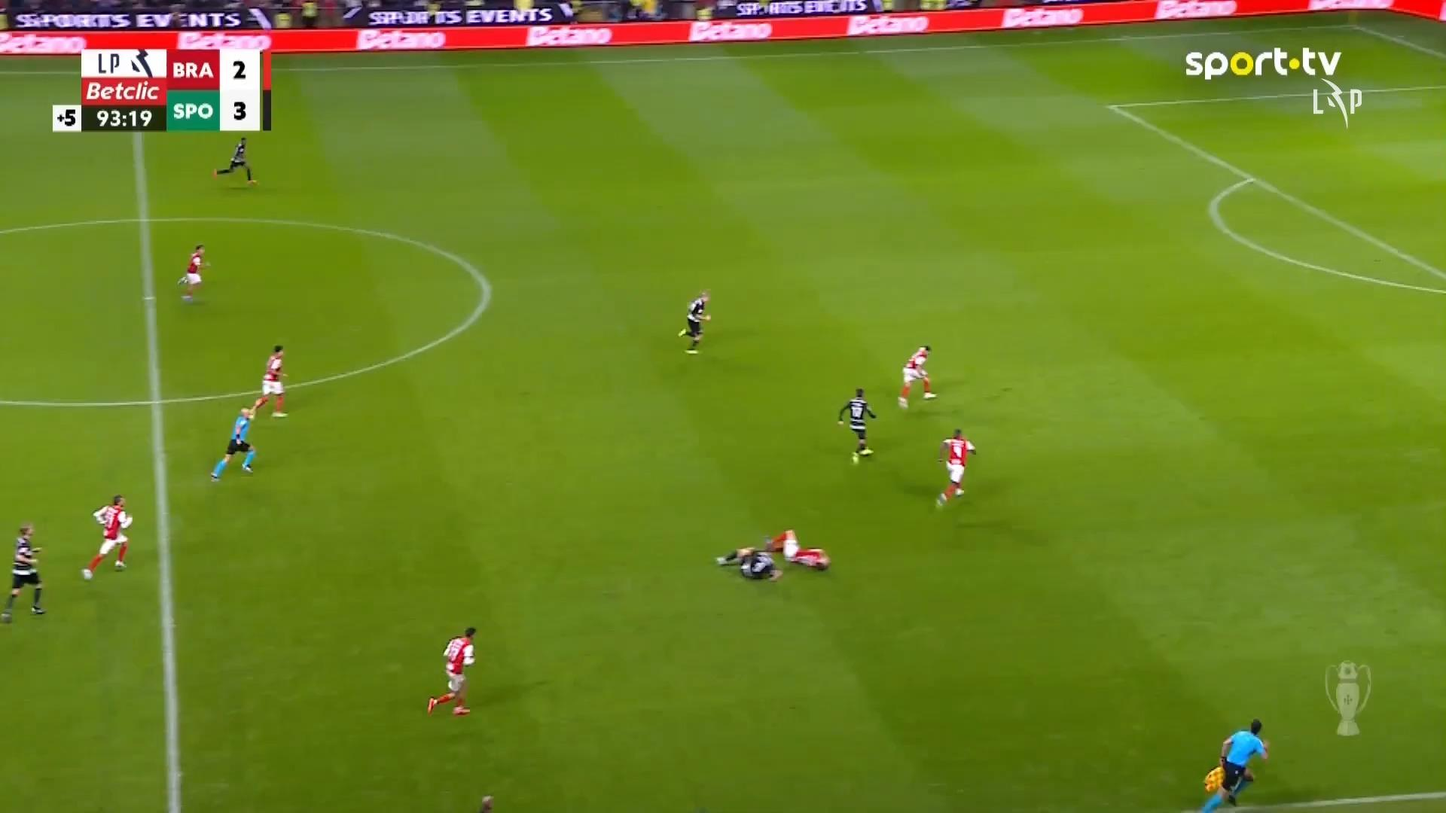player: (0, 522, 47, 623), (426, 626, 477, 715), (935, 428, 976, 508), (248, 344, 289, 419), (837, 387, 877, 461), (764, 528, 830, 571), (897, 344, 937, 409), (715, 546, 782, 581), (214, 136, 258, 186), (677, 290, 711, 354), (177, 243, 210, 302)
referee: (1200, 717, 1269, 811), (209, 405, 257, 482)
